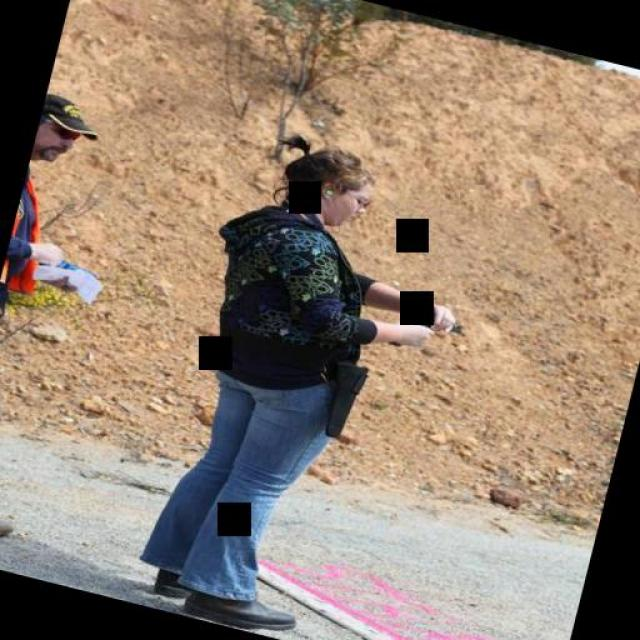gun: (392, 301, 472, 359)
